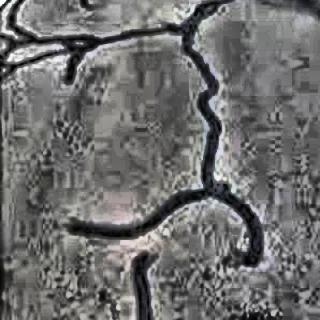crack: (5, 1, 268, 268)
